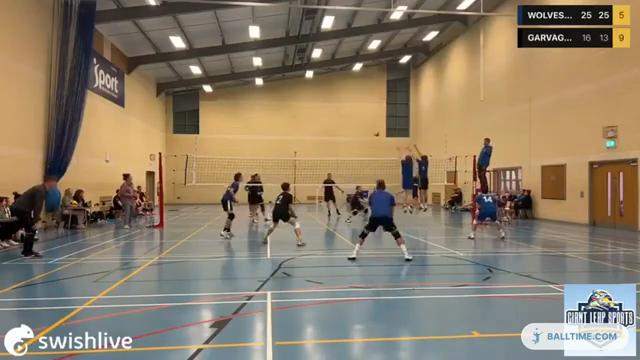Block: (409, 144, 430, 213), (398, 146, 418, 215)
Player: (348, 179, 412, 260), (263, 182, 305, 246), (468, 193, 504, 238), (220, 172, 241, 238), (245, 174, 266, 222), (322, 173, 343, 215), (346, 185, 367, 222), (412, 176, 419, 202), (255, 173, 263, 195)
ball: (372, 129, 381, 137)
